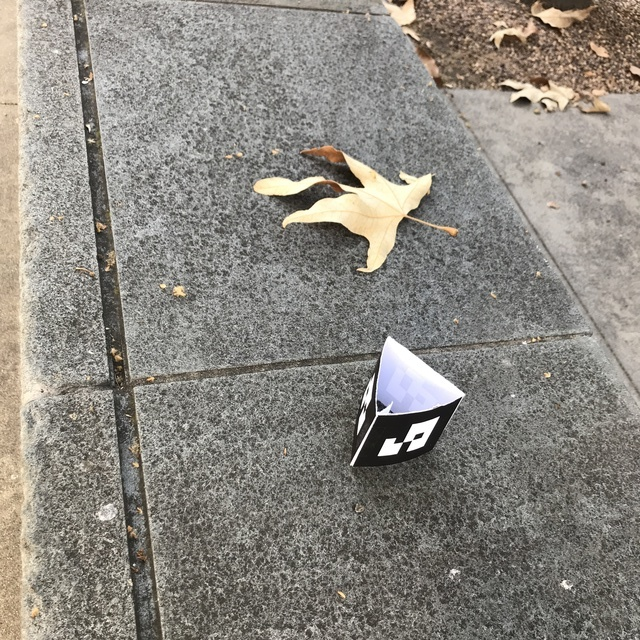ARTag: (350, 335, 463, 467)
